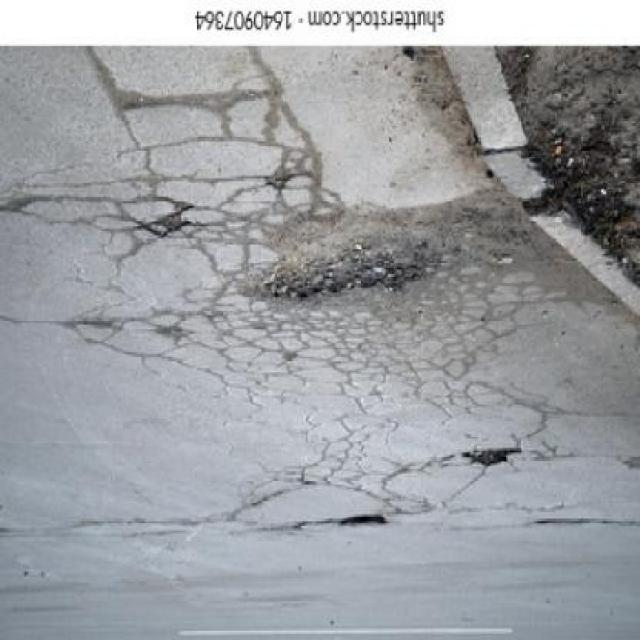Pothole: (261, 185, 555, 303)
